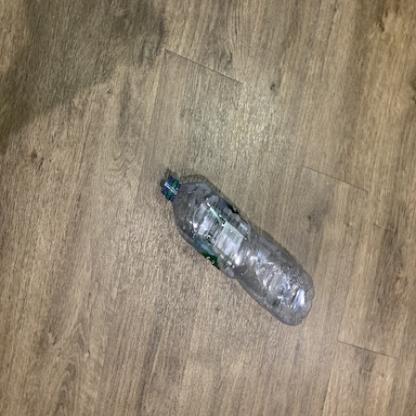trash: (152, 172, 318, 328)
